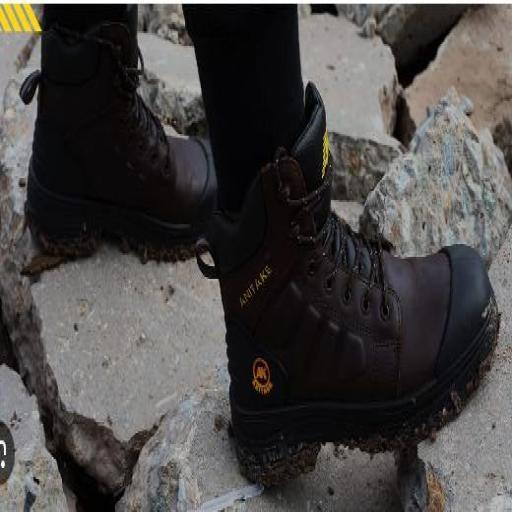safety_boots: (191, 144, 492, 476), (13, 82, 237, 270)
